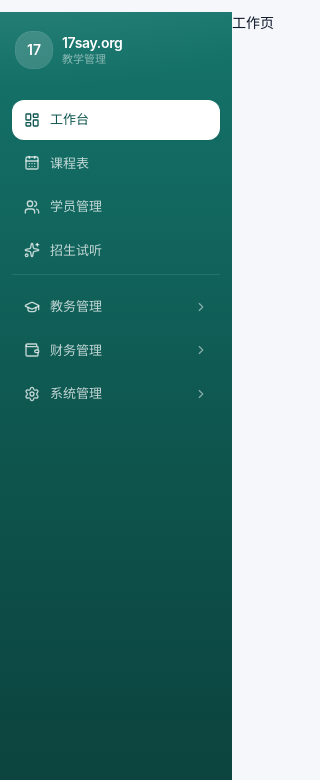
切换业务页面时回到顶部，不沿用上一页的滚动位置
This screenshot has width=320, height=780.
Click the link "学员管理" at (63, 206), box [24,198,102,215]
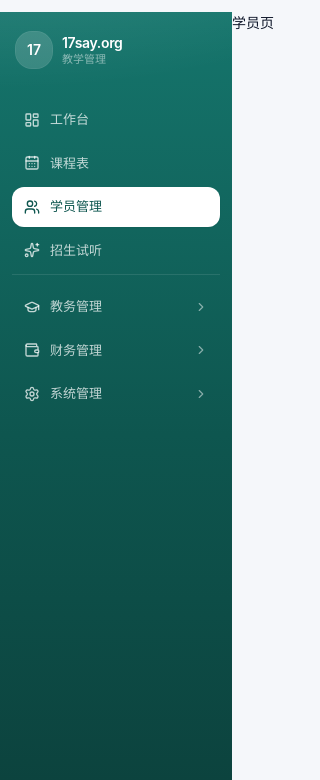
Now the text "学员页" is shown, box [232,14,274,31]
